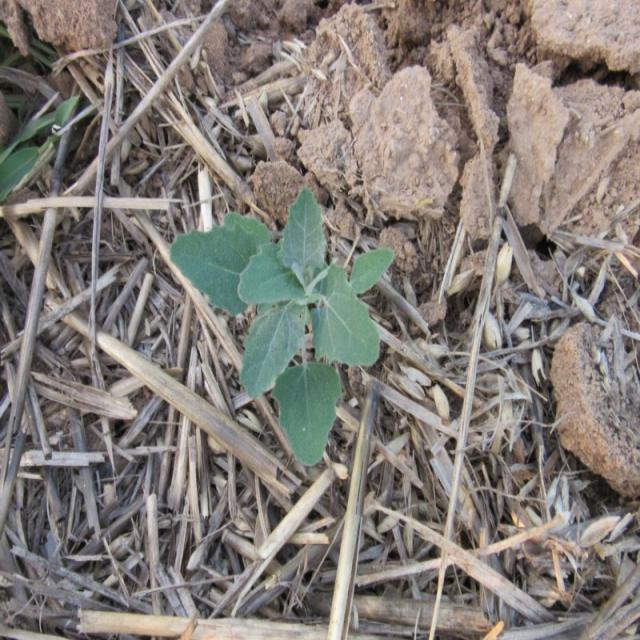ca: (170, 192, 392, 470)
